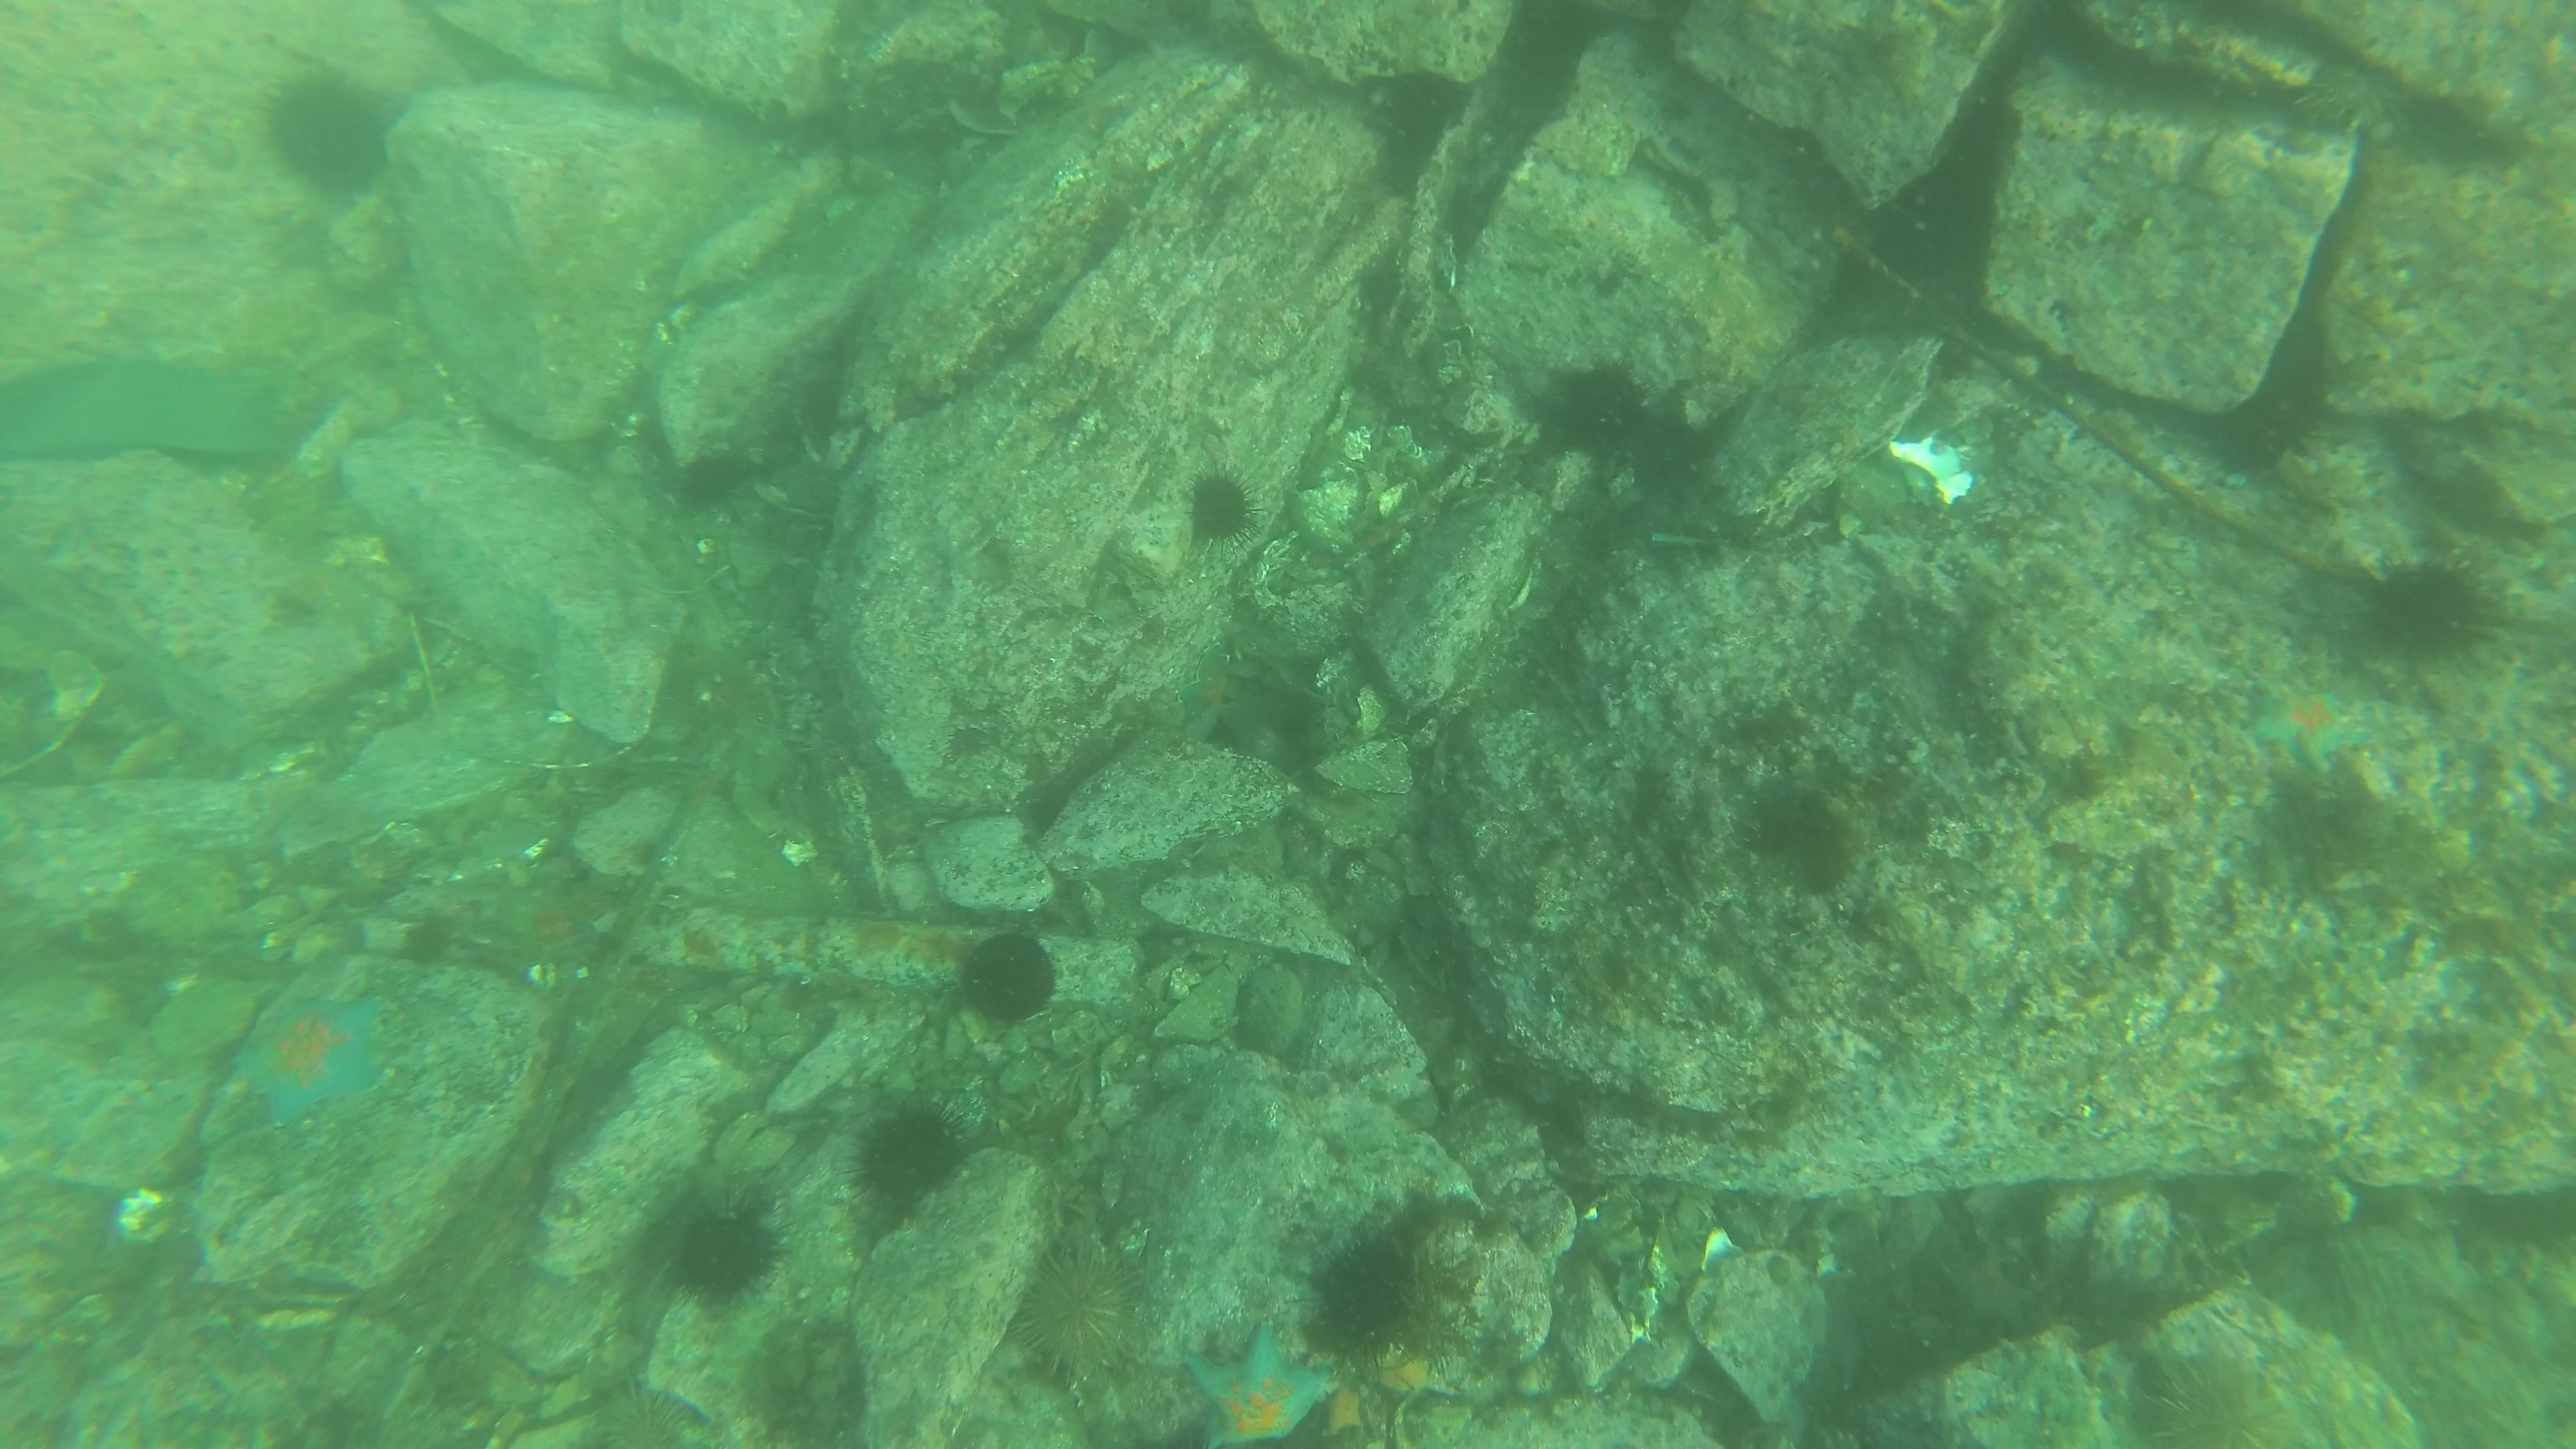echinus: (1008, 1237, 1152, 1389), (255, 65, 400, 202), (2351, 550, 2507, 672), (1300, 1226, 1430, 1357), (2128, 1352, 2307, 1444), (653, 1185, 786, 1309), (846, 1093, 973, 1217), (1737, 777, 1863, 901), (1530, 352, 1658, 464), (952, 924, 1065, 1030), (564, 1376, 720, 1444), (1177, 462, 1260, 550)
starfish: (228, 977, 396, 1129), (1175, 1316, 1343, 1440), (2243, 671, 2365, 777), (1171, 639, 1265, 752), (1941, 1244, 2049, 1338), (1368, 1339, 1463, 1417), (1323, 1384, 1366, 1431)
